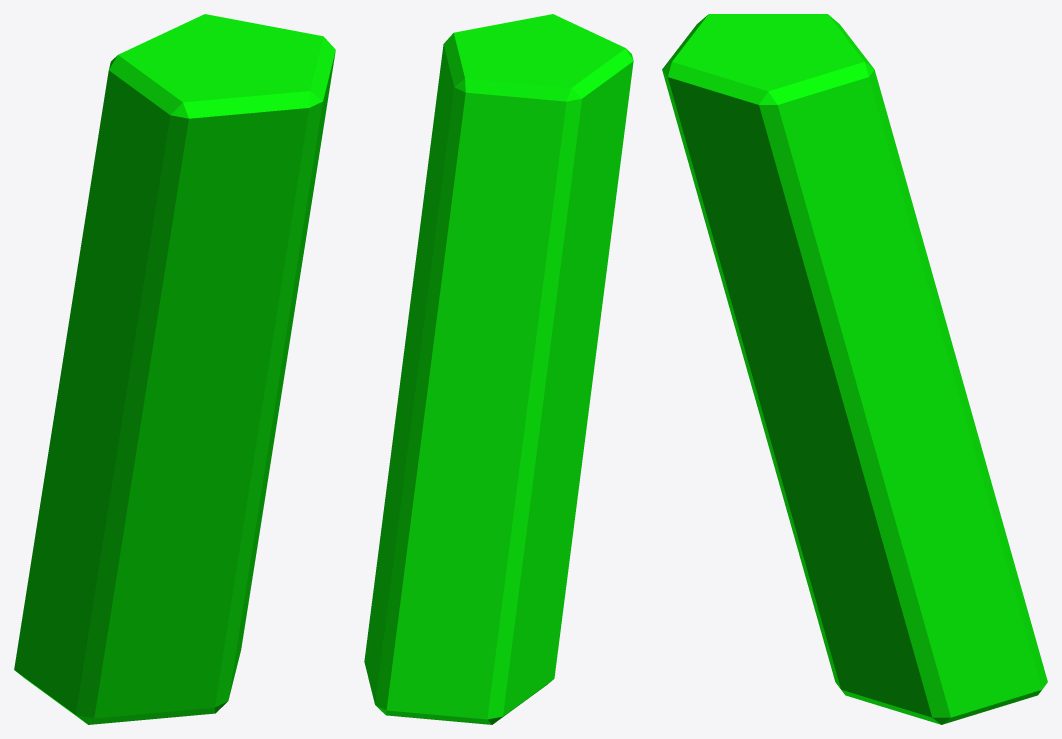
File: Penta_Platform_Straight_Diagonal.FBX
3 renders of one model, left to right at view 1: azimuth 30°, elevation 25°; view 2: azimuth 150°, elevation 25°; view 3: azimuth 270°, elevation 25°, orthographic. The views are drawn at different scales.
Visible parts, largest first — view 1: Penta_Platform_Straight_Diagonal; view 2: Penta_Platform_Straight_Diagonal; view 3: Penta_Platform_Straight_Diagonal.
Part boxes in pixels (<box>): Penta_Platform_Straight_Diagonal: <box>14,14,335,724</box>; Penta_Platform_Straight_Diagonal: <box>364,14,633,724</box>; Penta_Platform_Straight_Diagonal: <box>662,14,1047,724</box>.
Bounding box in the file's own units: 87.51 × 302 × 167.
